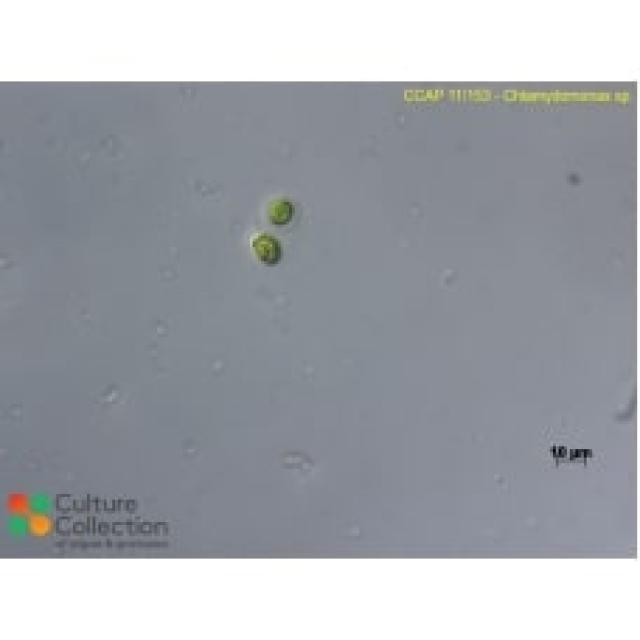Green Algae: (247, 230, 284, 267), (266, 191, 294, 224)
